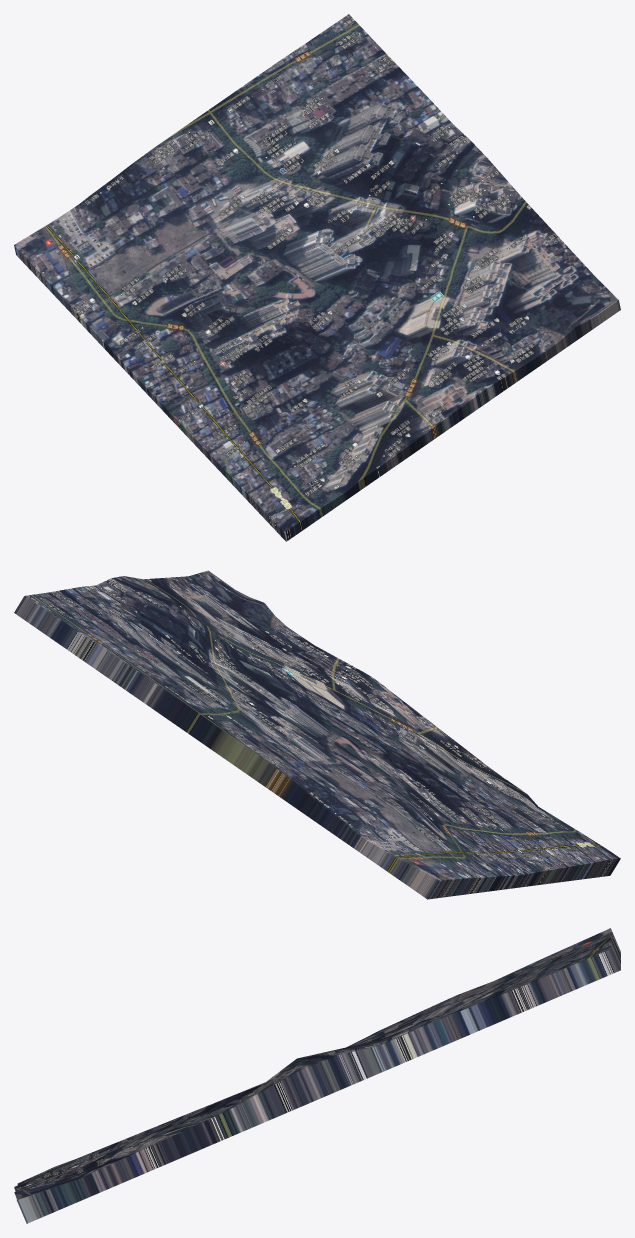
3 views of the same model, one above another, from view 1: azimuth 30°, elevation 25°; view 2: azimuth 150°, elevation 25°; view 3: azimuth 270°, elevation 25° (orthographic). The views are drawn at different scales.
Parts seen in each view (by area): view 1: 0_10_6; view 2: 0_10_6; view 3: 0_10_6.
Part boxes in pixels (bbox=[...]): 0_10_6: bbox=[14, 14, 620, 541]; 0_10_6: bbox=[14, 570, 620, 899]; 0_10_6: bbox=[14, 928, 620, 1223].
Size of the model in its own units: 601 by 446 by 554.
1 material, 1 textured.
